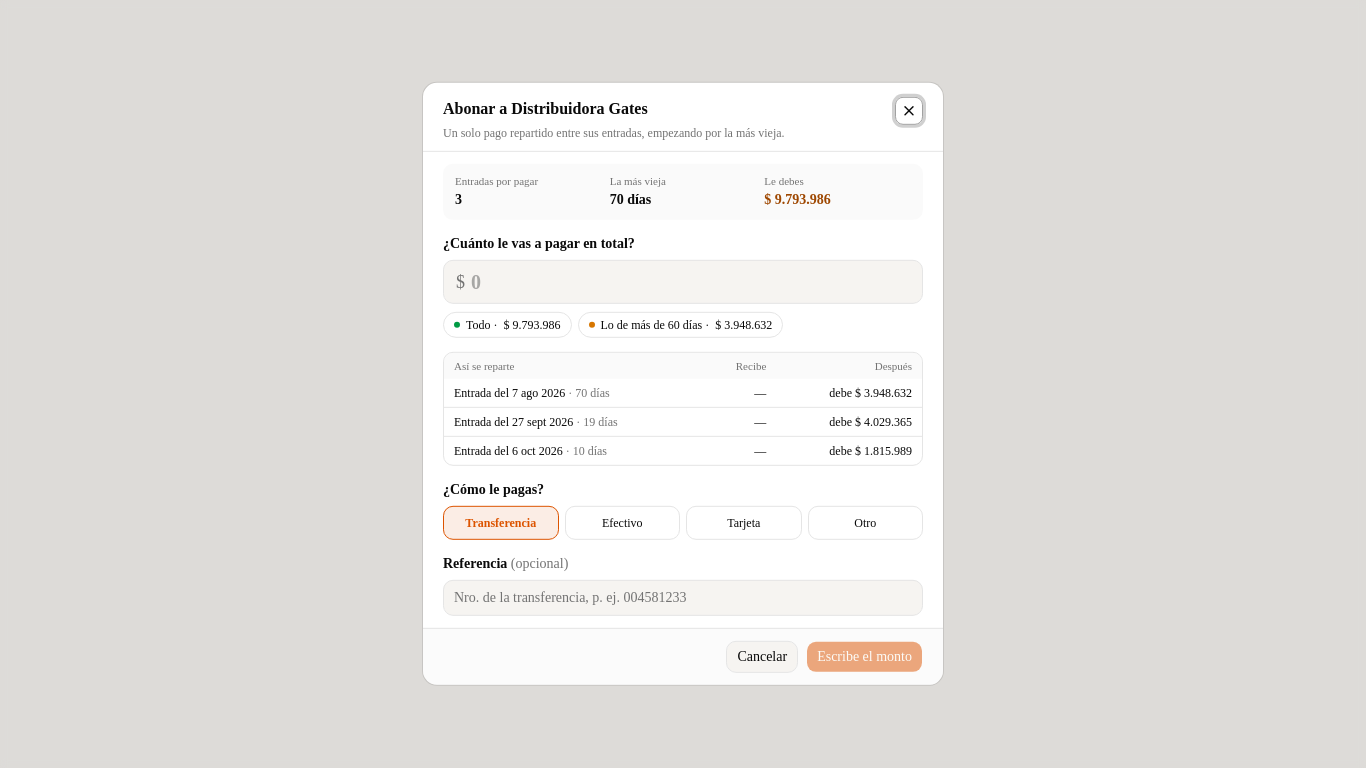
Test case: AbonoProveedorDialog › botones rápidos: todo, y lo de más de 60 días
This screenshot has width=1366, height=768.
Click the button "Lo de más de 60 días · $ 3.948.632". click: click(680, 324)
box: [578,312,783,338]
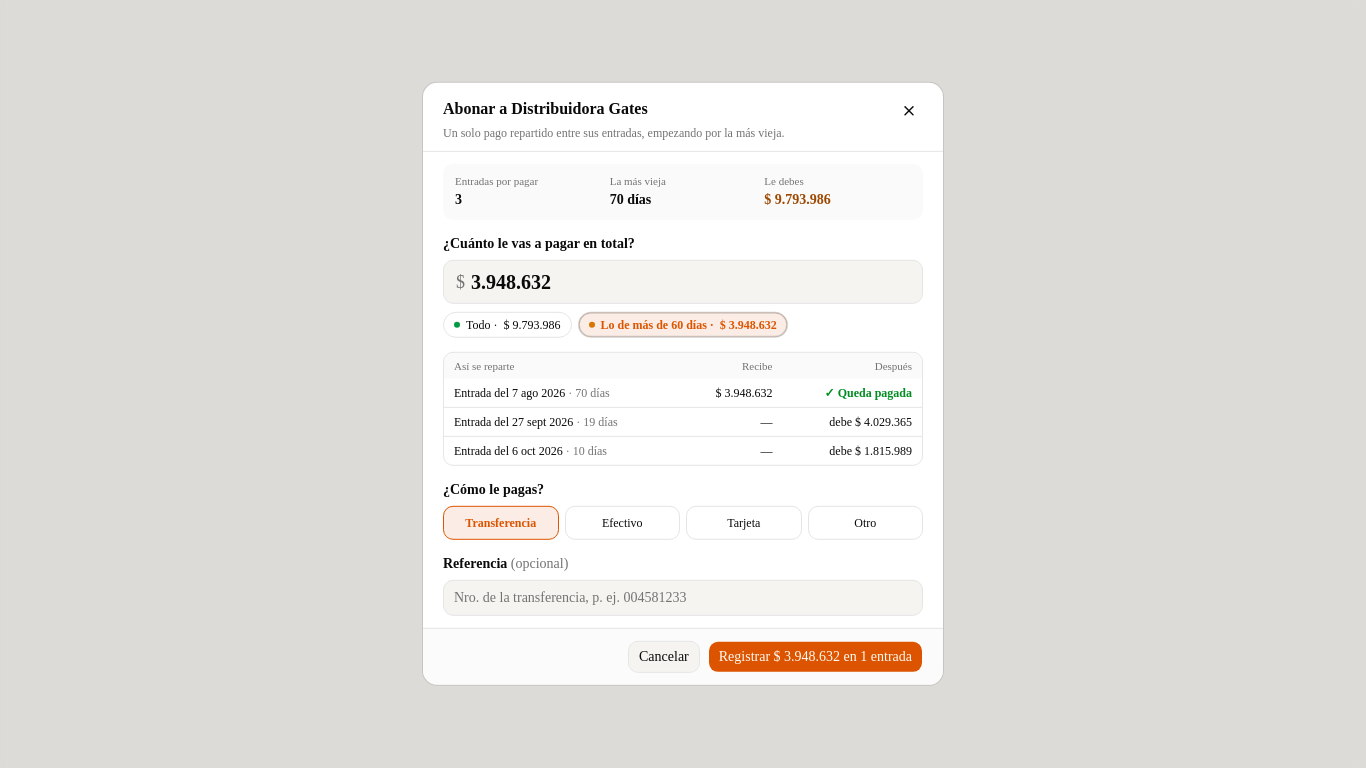
Expected: the field labelled "¿Cuánto le vas a pagar en total?" holds "3.948.632", [471,268,910,296]
Expected: the button "Registrar $ 3.948.632 en 1 entrada" is shown, [708,641,923,673]
Click the button "Todo · $ 9.793.986". click: click(507, 324)
box: [443,312,572,338]
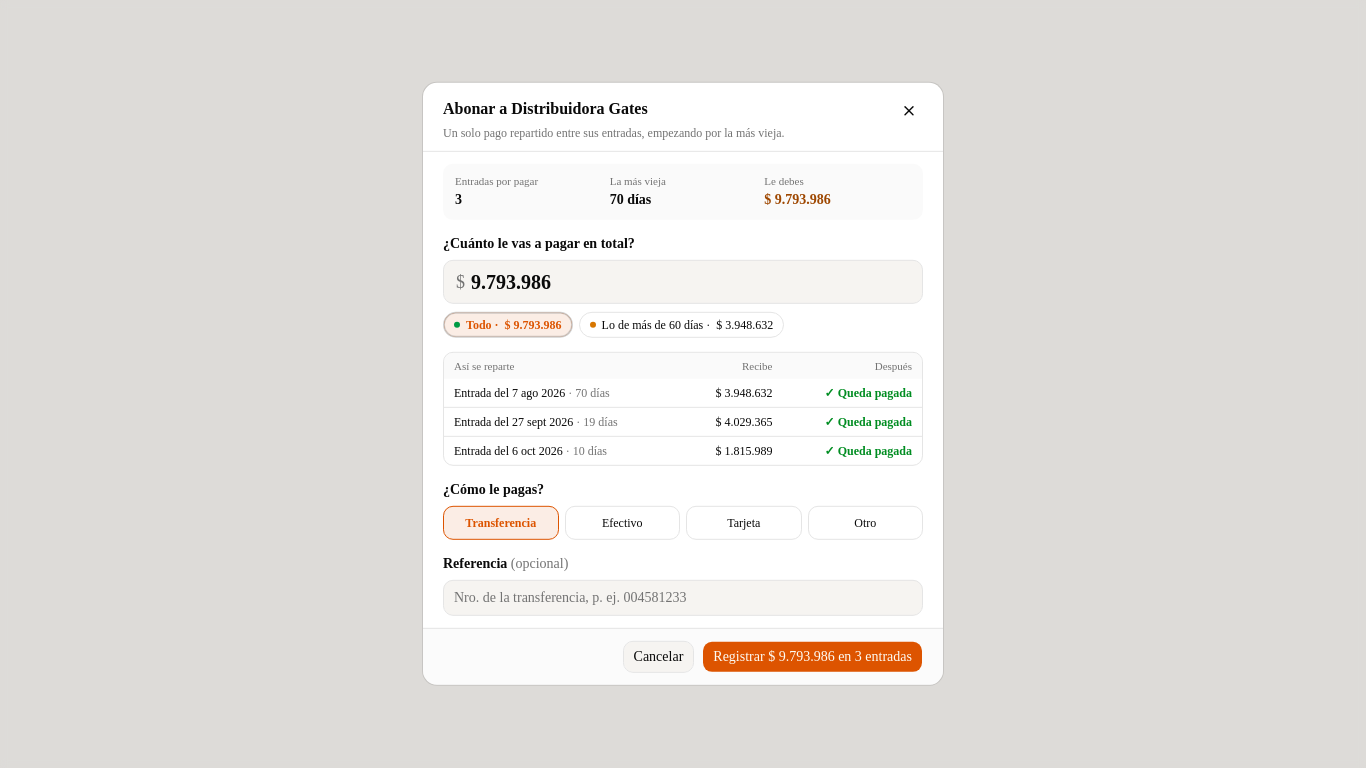
Expected: the field labelled "¿Cuánto le vas a pagar en total?" holds "9.793.986", [471,268,910,296]
